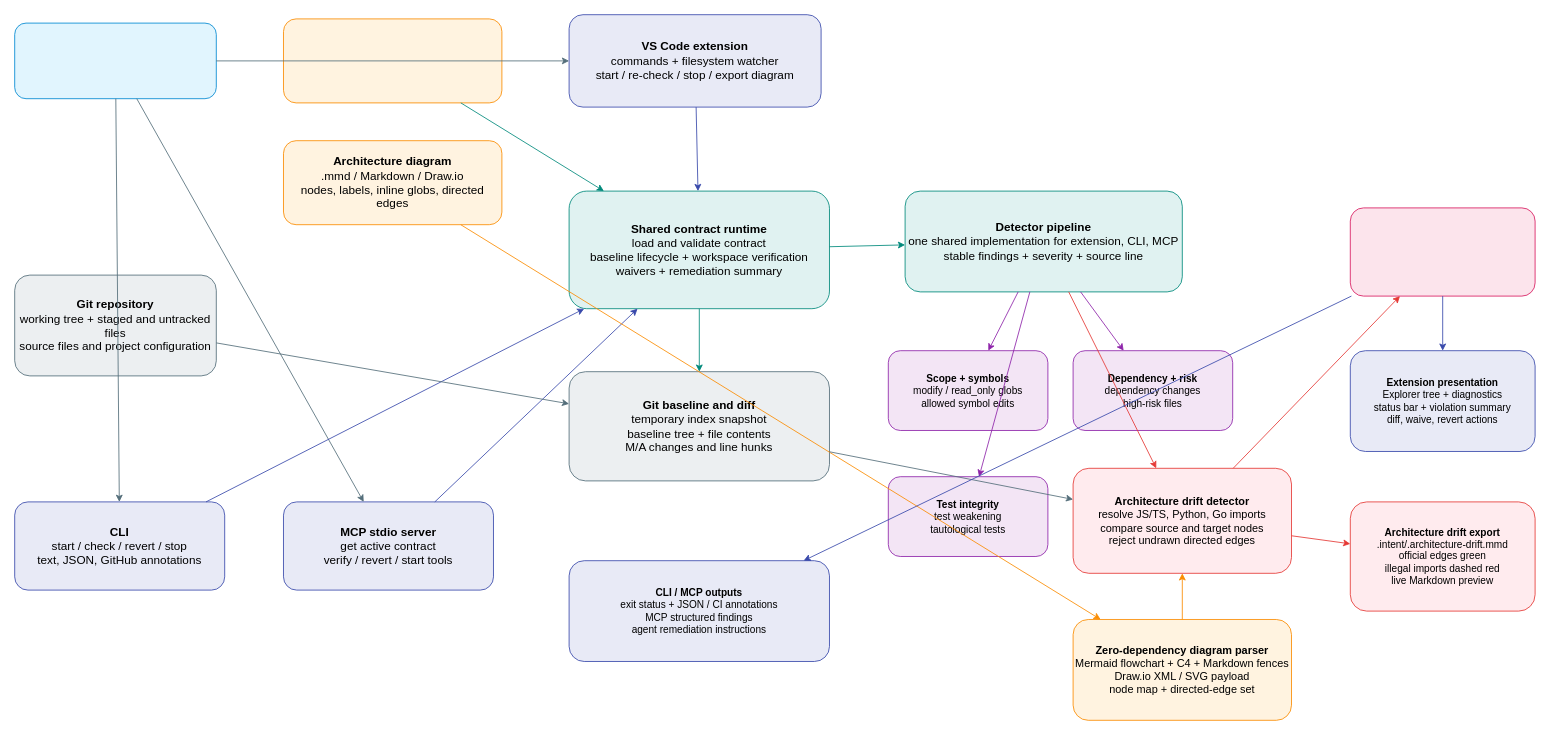
Some shapes in this 1550 by 735 pixel diagram are drawn without their labels. Each missing label, with the box of its shape:
Developer / AI agent Edits files; runs commands or MCP tools: (14, 22, 216, 99)
Findings errors and warnings file, line, evidence, remediation: (1349, 207, 1535, 296)
Intent contract .intent/*.yaml scope, forbid rules, architecture policy: (283, 18, 502, 103)
